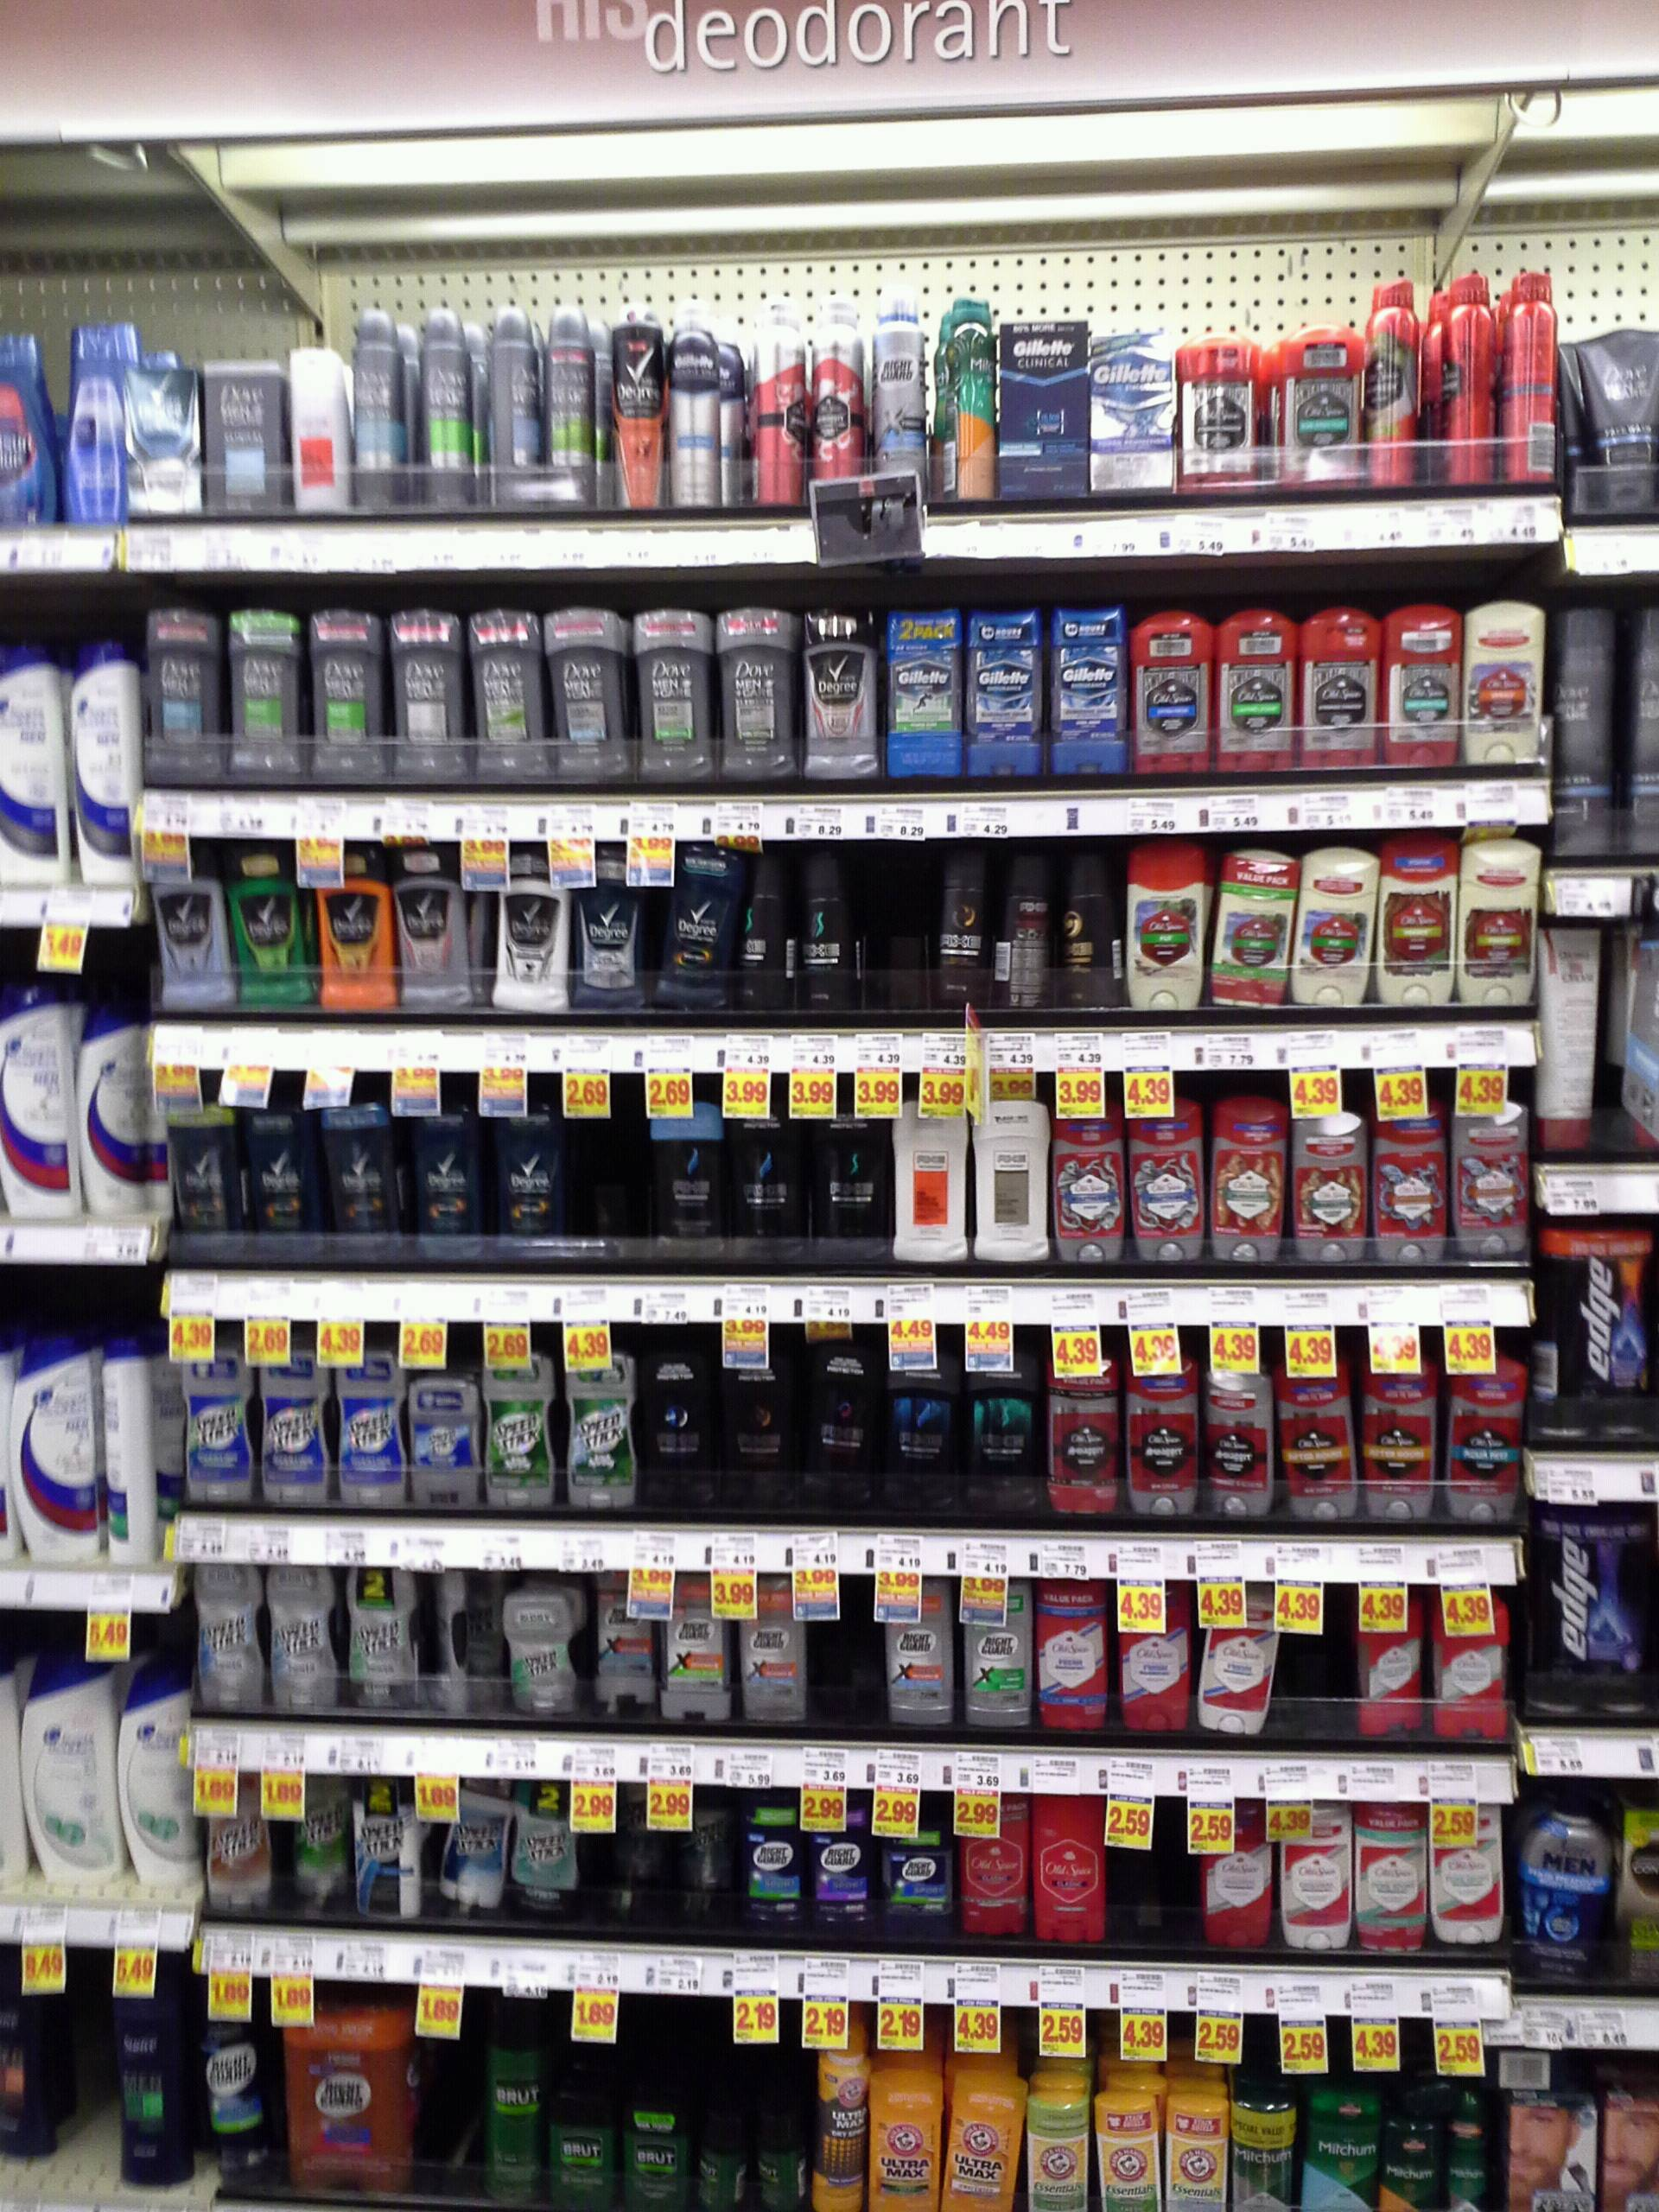Out-of-stock: (868, 841, 927, 1012)
